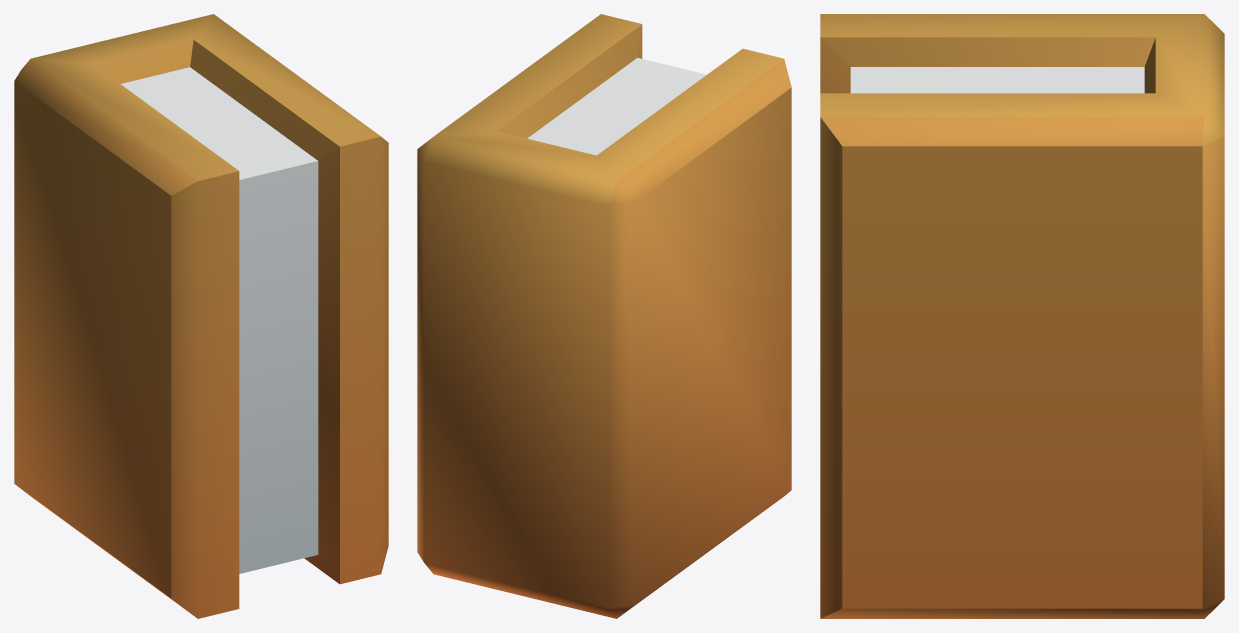
File: book-single.glb
3 renders of one model, left to right at view 1: azimuth 30°, elevation 25°; view 2: azimuth 150°, elevation 25°; view 3: azimuth 270°, elevation 25°, orthographic. The views are drawn at different scales.
Parts seen in each view (by area): view 1: book_single; view 2: book_single; view 3: book_single.
Part boxes in pixels (<box>): book_single: <box>14,14,388,618</box>; book_single: <box>417,14,791,618</box>; book_single: <box>820,14,1224,618</box>.
Bounding box in the file's own units: 0.26 × 0.5 × 0.365.
